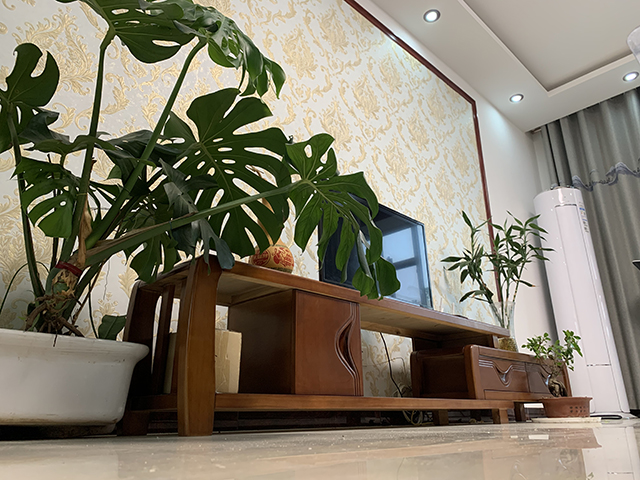cabinet: (116, 252, 574, 438)
curtain: (541, 86, 640, 412)
